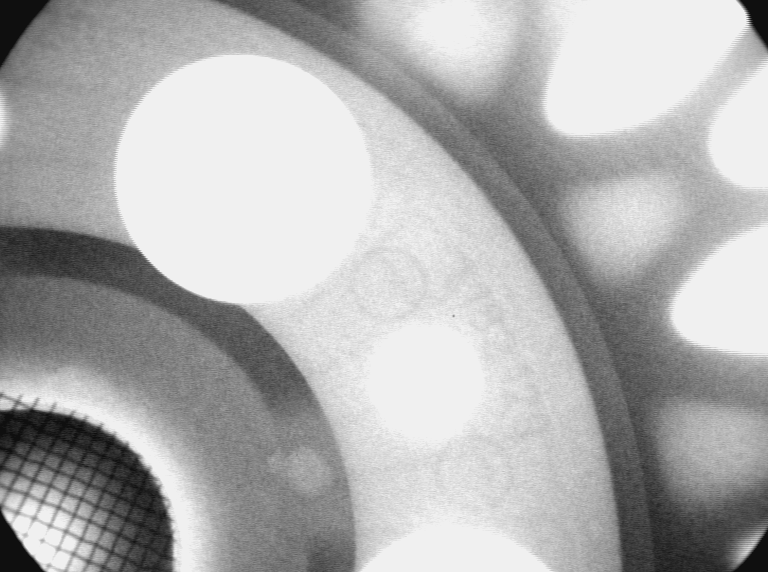defect: (266, 442, 337, 499)
